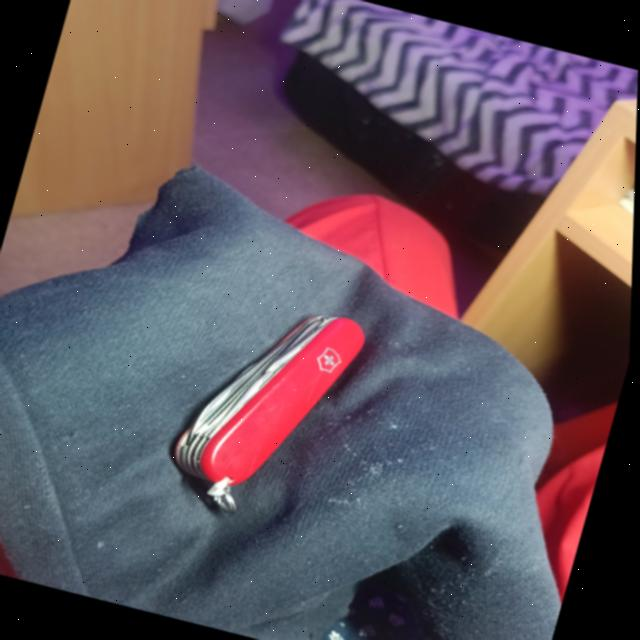knife victorinox: (177, 316, 366, 510)
